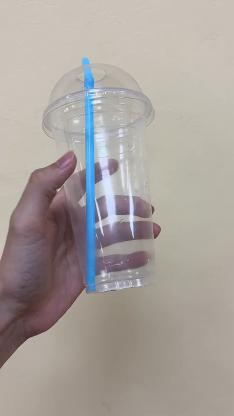Plastic Cup: (40, 57, 162, 295)
